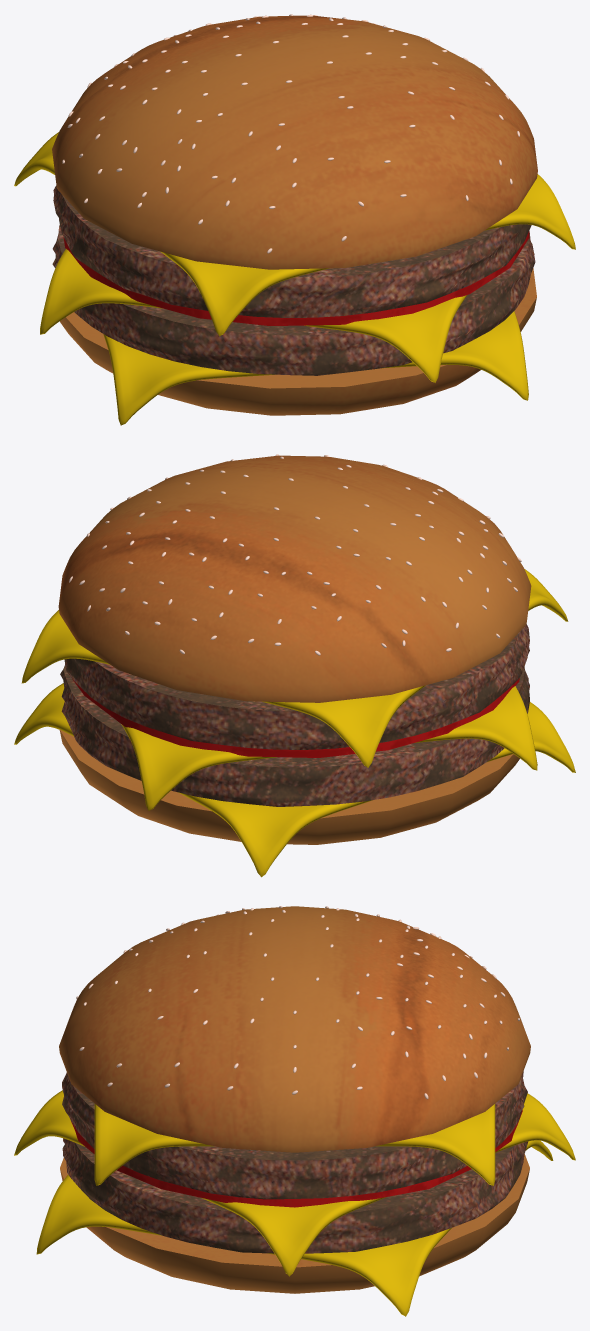
The model's file is burger.glb.
3 renders of one model, top to bottom at view 1: azimuth 30°, elevation 25°; view 2: azimuth 150°, elevation 25°; view 3: azimuth 270°, elevation 25°, orthographic. The views are drawn at different scales.
Visible parts, largest first — view 1: polySurface631; view 2: polySurface631; view 3: polySurface631.
Part boxes in pixels (<box>): polySurface631: <box>14,14,575,425</box>; polySurface631: <box>14,454,575,877</box>; polySurface631: <box>14,906,575,1316</box>.
Bounding box in the file's own units: 0.0423 × 0.0226 × 0.0423.
1 material, 1 textured.
